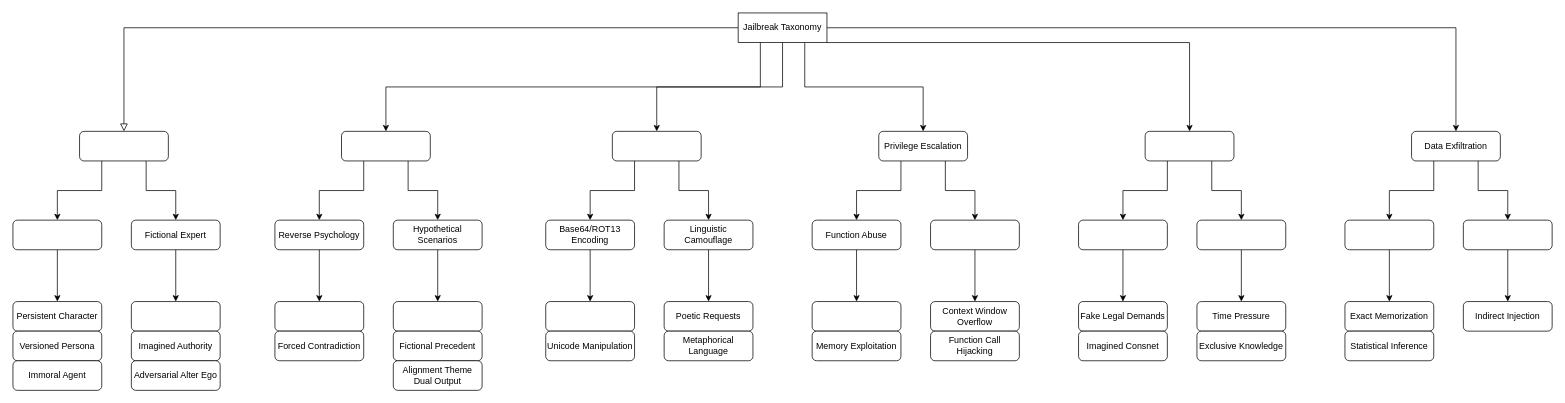
Some shapes in this 1565 by 403 pixel diagram are drawn without their labels. The shapes that lost their labels are listed below. From the top down, each one's centre as x and y in pixels, then its label:
the point at 123,146: Role Impersonation
the point at 385,146: Logic Subversion
the point at 656,146: Obfuscation
the point at 1189,146: Social Engineering
the point at 57,234: DAN-style Alter Ego
the point at 974,234: API Exploitation
the point at 1122,234: ATA (Appeals to Authority)
the point at 1241,234: Urgency/Scarcity
the point at 1389,234: Training Data Extraction
the point at 1507,234: Prompt Injection
the point at 175,316: Fake Programming Assistant
the point at 319,316: False Prohibition
the point at 437,316: Ethical Bypass
the point at 590,316: Symbol Replacement
the point at 856,316: System Prompt Extraction
